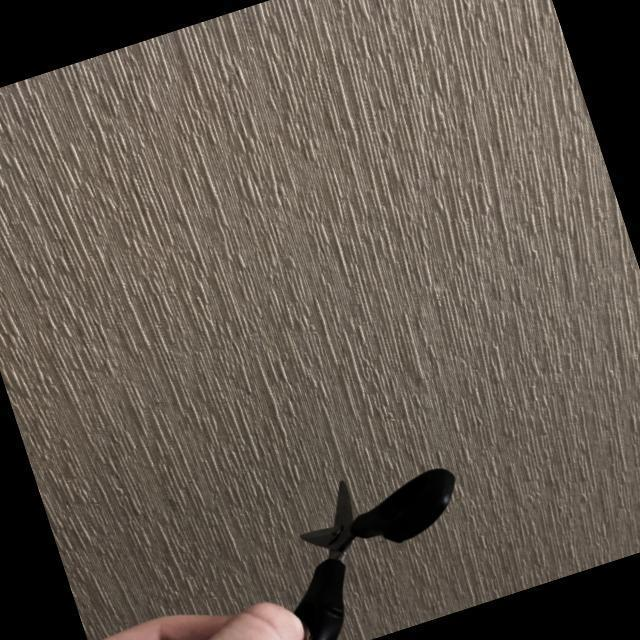scissors: (224, 454, 493, 640)
